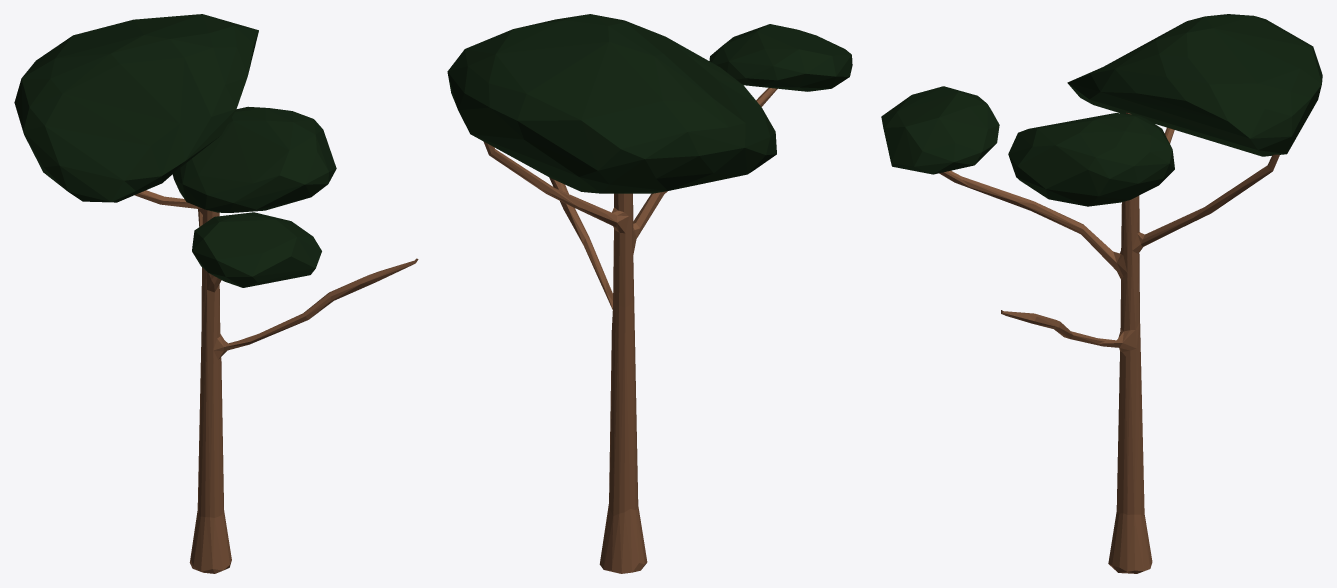
File: SM_tree_small_02.fbx
3 views of the same model, side by side, from view 1: azimuth 30°, elevation 25°; view 2: azimuth 150°, elevation 25°; view 3: azimuth 270°, elevation 25° (orthographic). The views are drawn at different scales.
Visible parts, largest first — view 1: Object011; view 2: Object011; view 3: Object011.
Boxes of the visible parts, x1,y1,x2,y2 form: Object011: [14, 14, 418, 573]; Object011: [447, 14, 852, 573]; Object011: [881, 14, 1322, 573].
Bounding box in the file's own units: 115 × 145 × 191.
